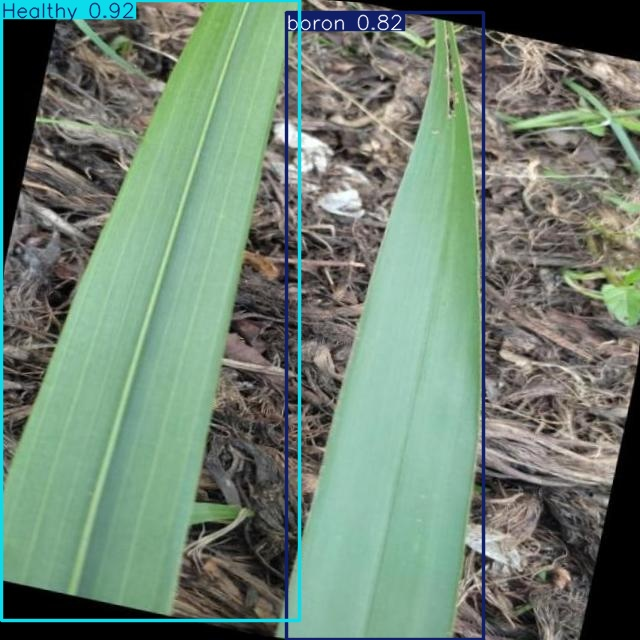Healthy: (1, 0, 299, 621)
nitrogen: (287, 13, 484, 639)
